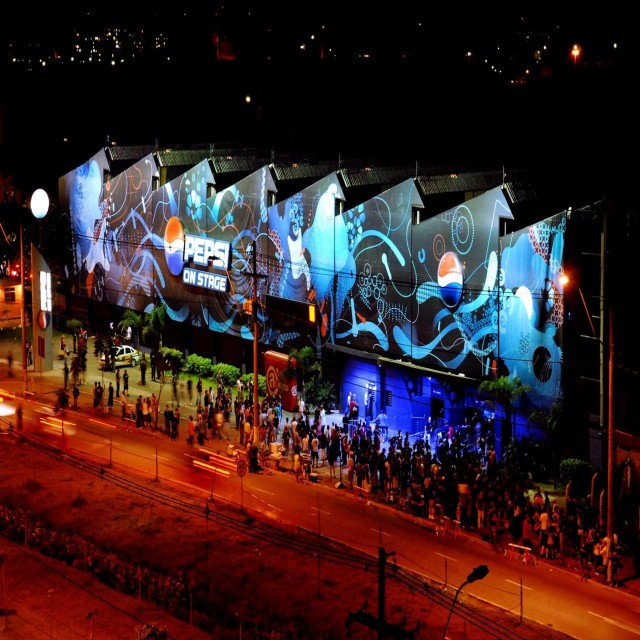pepsi: (436, 249, 467, 310), (163, 215, 187, 275)
